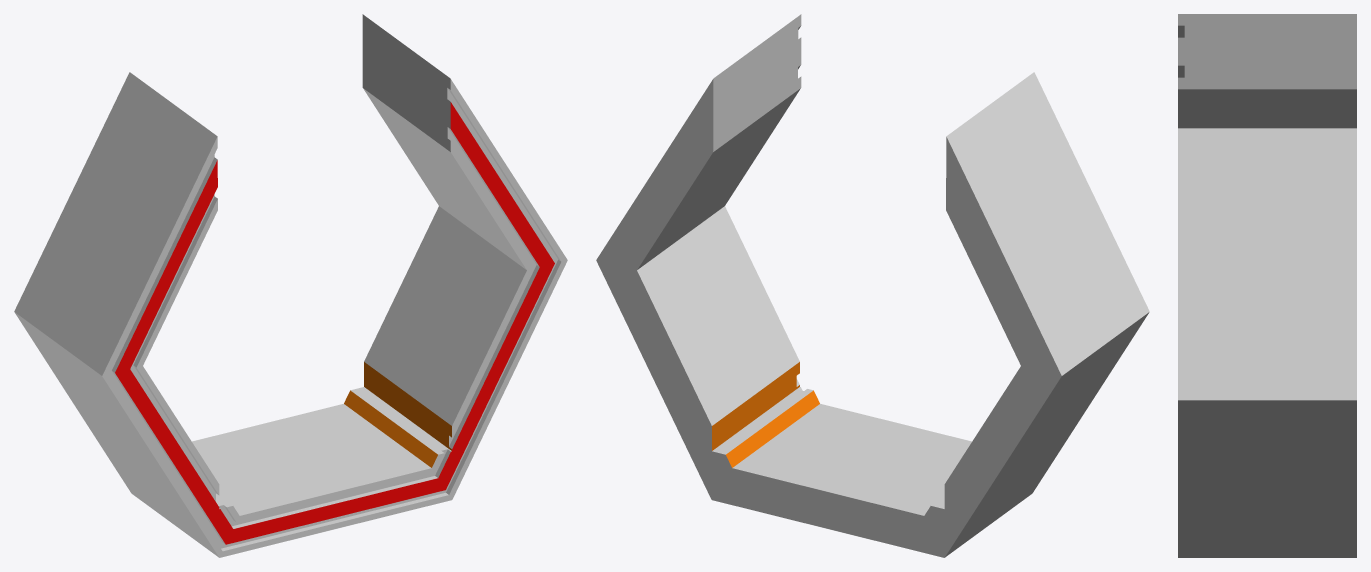
Rendered from bridgesection7.obj.
The picture shows the model from 3 angles, left to right: view 1: azimuth 30°, elevation 25°; view 2: azimuth 150°, elevation 25°; view 3: azimuth 270°, elevation 25°; orthographic projection.
Parts seen in each view (by area): view 1: object1; view 2: object1; view 3: object1.
Part boxes in pixels (bbox=[...]): object1: bbox=[14, 14, 567, 557]; object1: bbox=[596, 14, 1149, 557]; object1: bbox=[1178, 14, 1356, 557].
Size of the model in its own units: 16.81 by 14.6 by 5.5.
